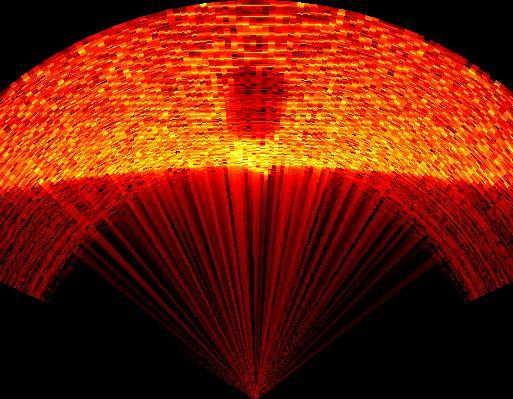box_crate: (220, 62, 287, 140)
